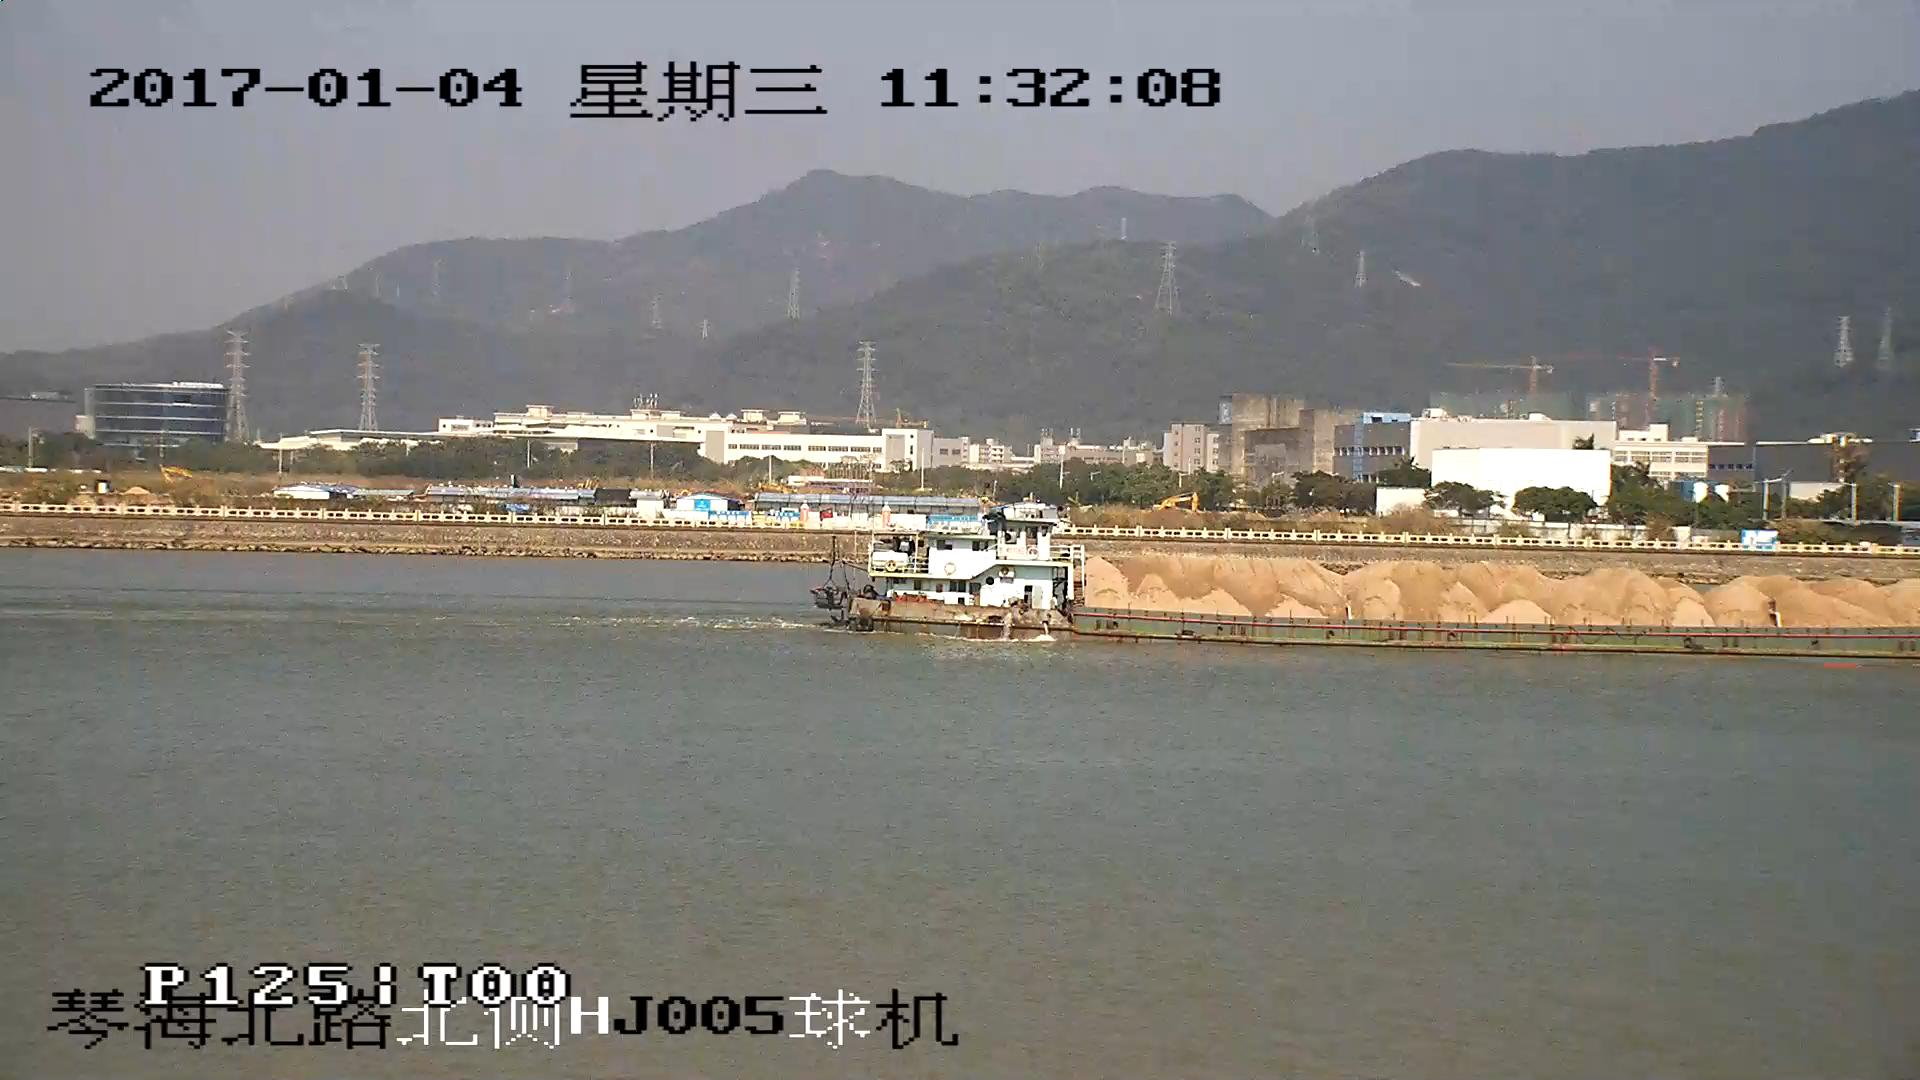ore carrier: (818, 509, 1920, 658)
